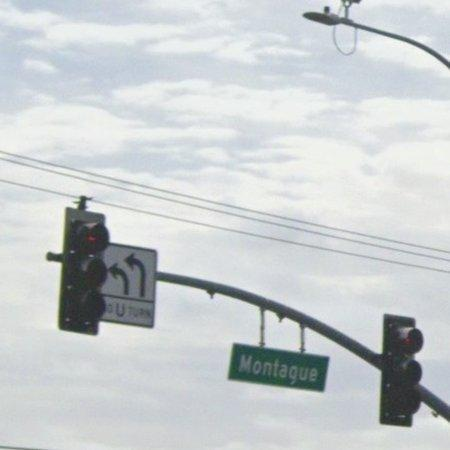traffic lights: (58, 207, 112, 336), (380, 314, 425, 428)
